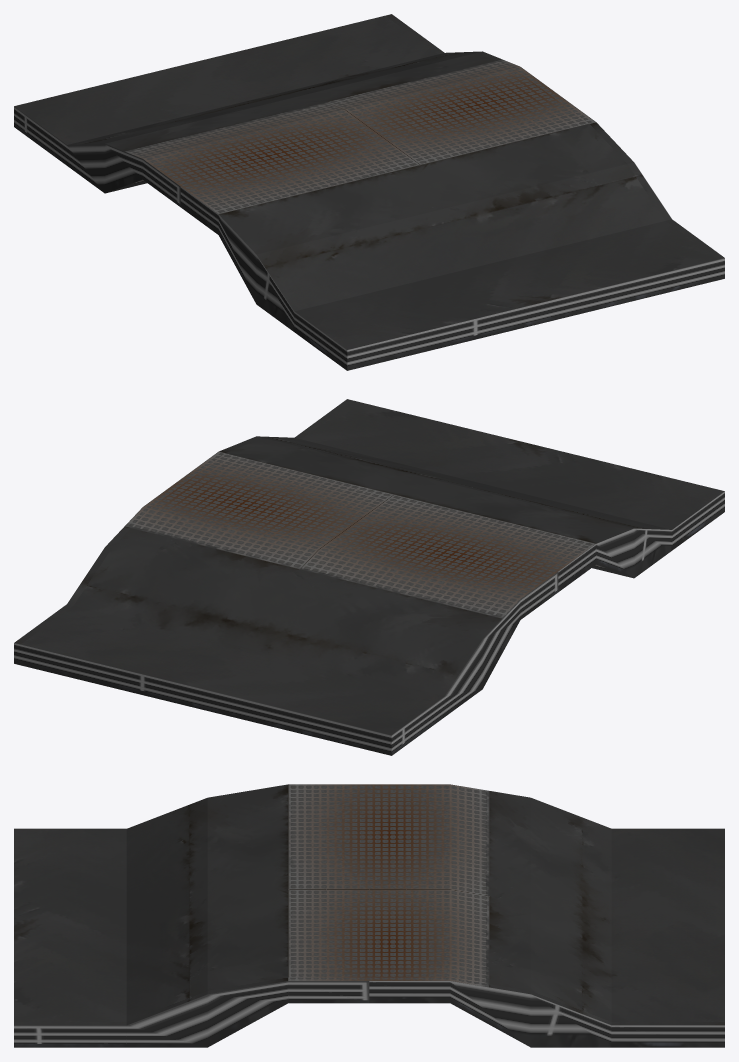
File: SM_Roof_C.fbx
3 renders of one model, top to bottom at view 1: azimuth 30°, elevation 25°; view 2: azimuth 150°, elevation 25°; view 3: azimuth 270°, elevation 25°, orthographic. The views are drawn at different scales.
Visible parts, largest first — view 1: Roof_C; view 2: Roof_C; view 3: Roof_C.
Part boxes in pixels (bbox=[...]): Roof_C: bbox=[14, 14, 724, 370]; Roof_C: bbox=[14, 399, 724, 755]; Roof_C: bbox=[14, 784, 724, 1047].
Size of the model in its own units: 1.9 by 0.3 by 2.9.
